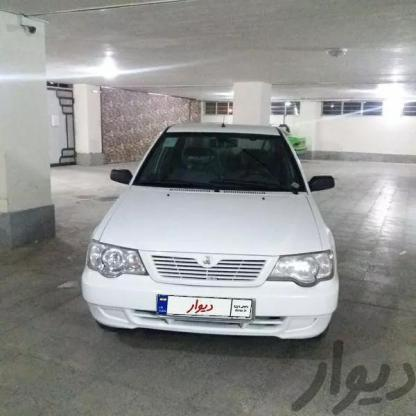Car: (82, 109, 349, 344)
